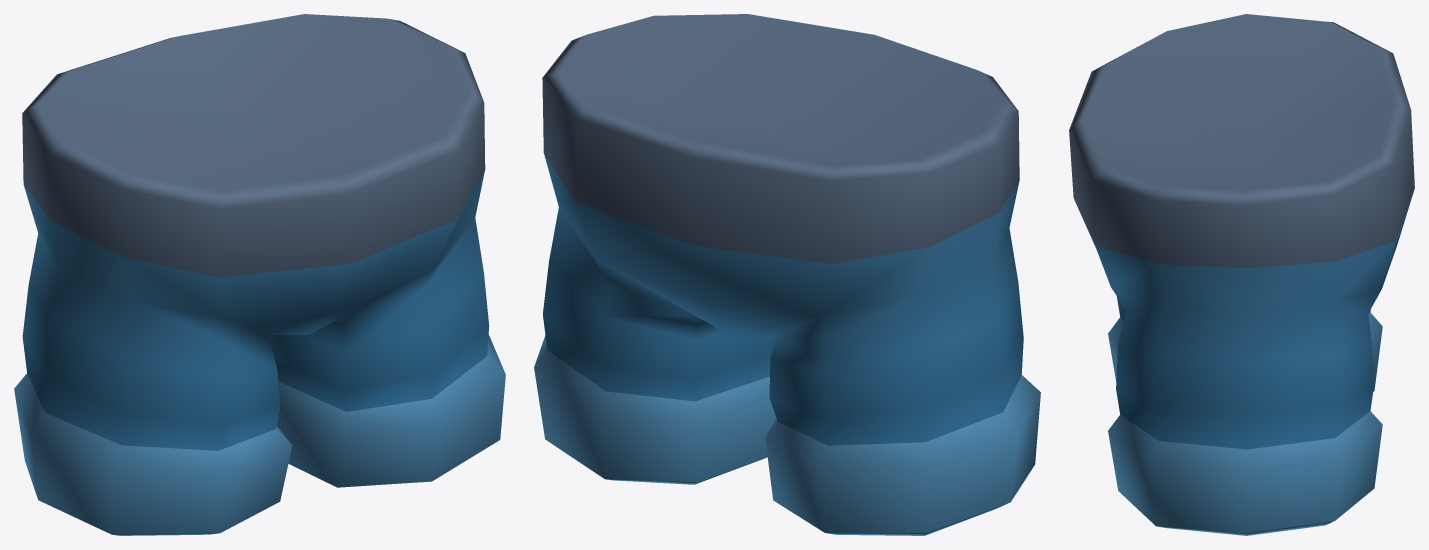
Rendered from Bottom_38.fbx.
The picture shows the model from 3 angles, left to right: view 1: azimuth 30°, elevation 25°; view 2: azimuth 150°, elevation 25°; view 3: azimuth 270°, elevation 25°; orthographic projection. The views are drawn at different scales.
Visible parts, largest first — view 1: Bottom_38; view 2: Bottom_38; view 3: Bottom_38.
Part boxes in pixels (x1,y1,x2,y2): Bottom_38: [14, 14, 505, 535]; Bottom_38: [534, 14, 1040, 535]; Bottom_38: [1069, 14, 1414, 535].
Size of the model in its own units: 42.08 by 33.02 by 29.68.
